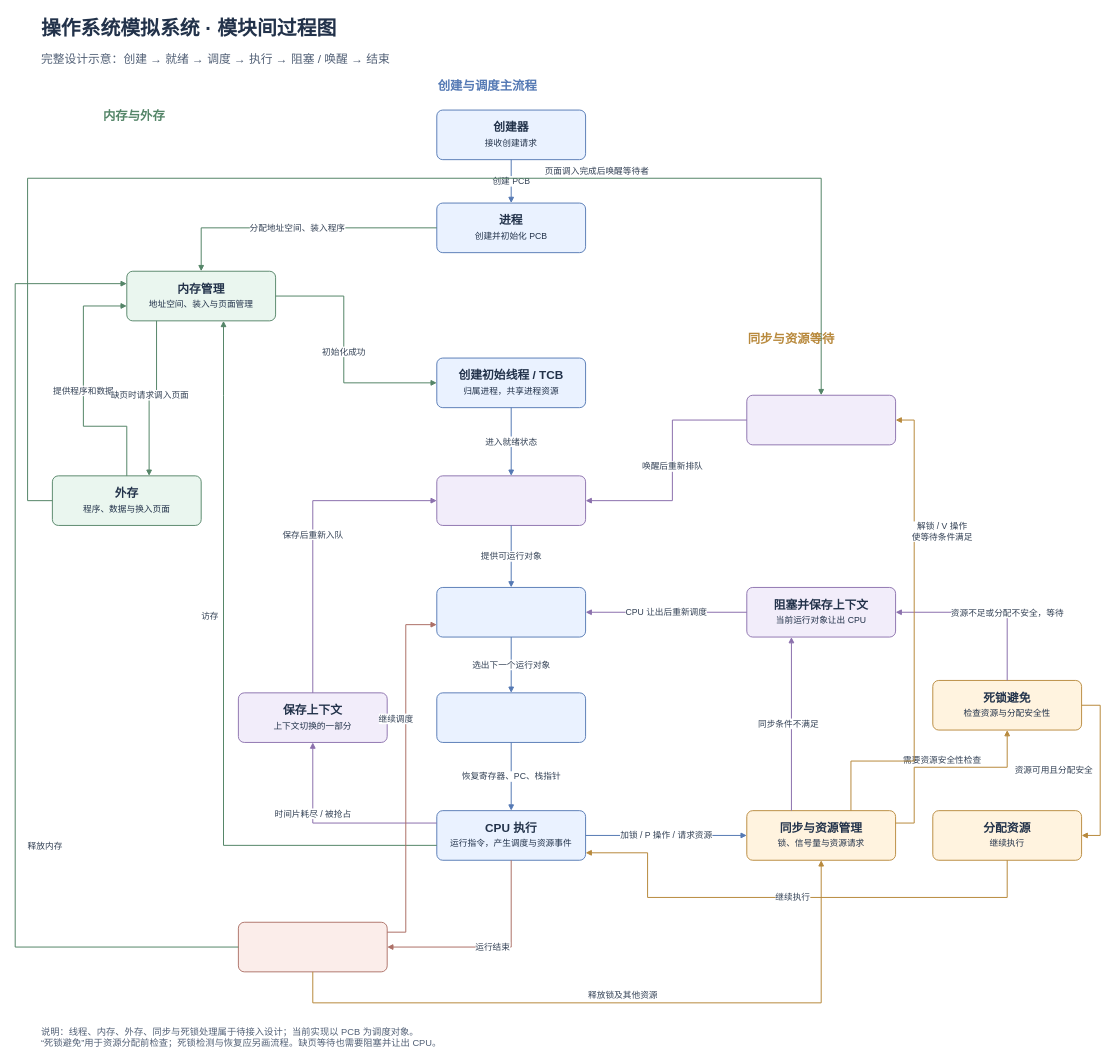
Image size: 1117x1063. Some labels were removed from this diagram. Each missing label, with the box of its shape:
上下文切换器 恢复被选对象的执行现场: (436, 692, 586, 743)
唤醒等待者 重新进入就绪队列: (746, 395, 896, 445)
就绪队列 等待获得 CPU: (436, 475, 586, 526)
终止并回收资源 释放内存、锁及其他资源: (238, 922, 387, 972)
调度器 选择下一个运行对象: (436, 587, 586, 637)
